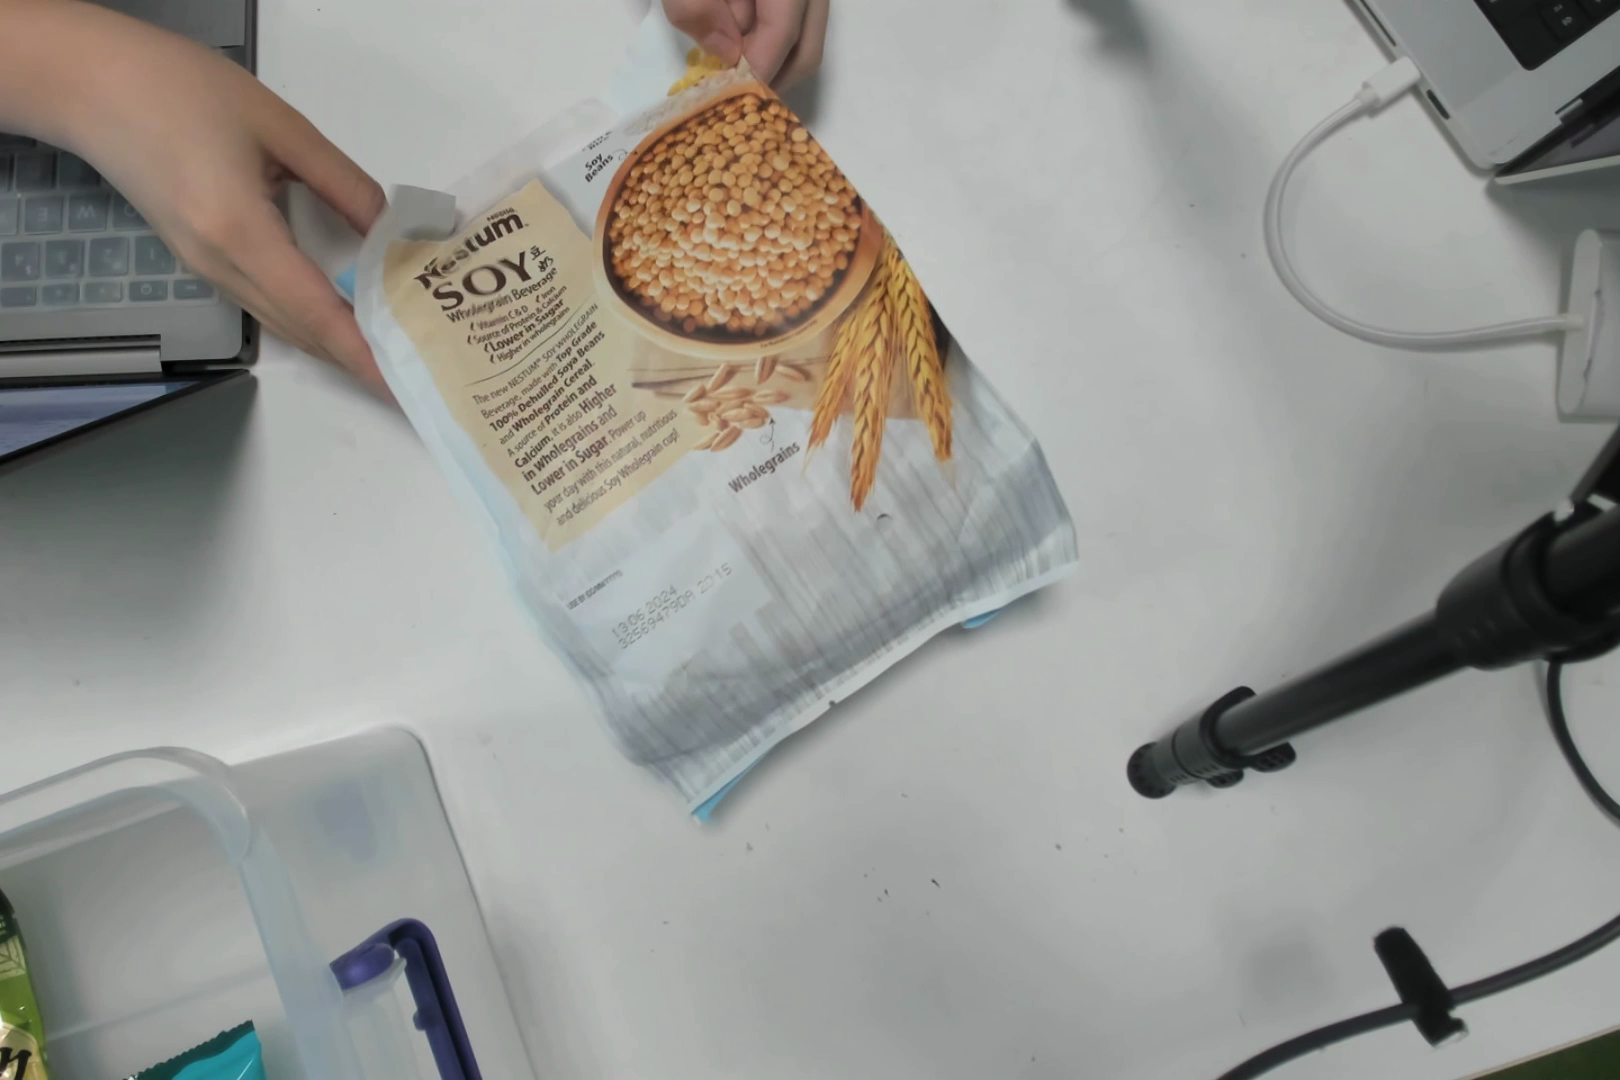e: (403, 92, 991, 682)
